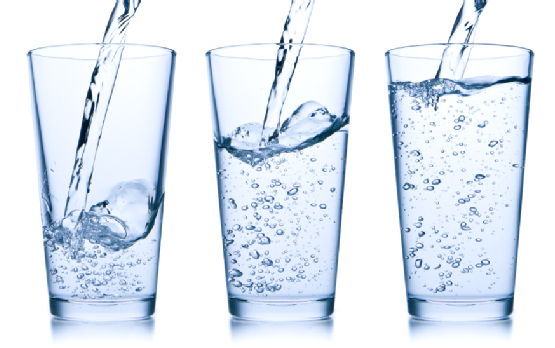glass of water: (381, 45, 530, 327), (24, 45, 174, 321), (205, 45, 349, 326)
